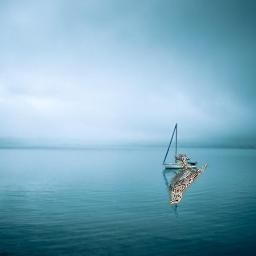Sparrow: (168, 155, 210, 206)
